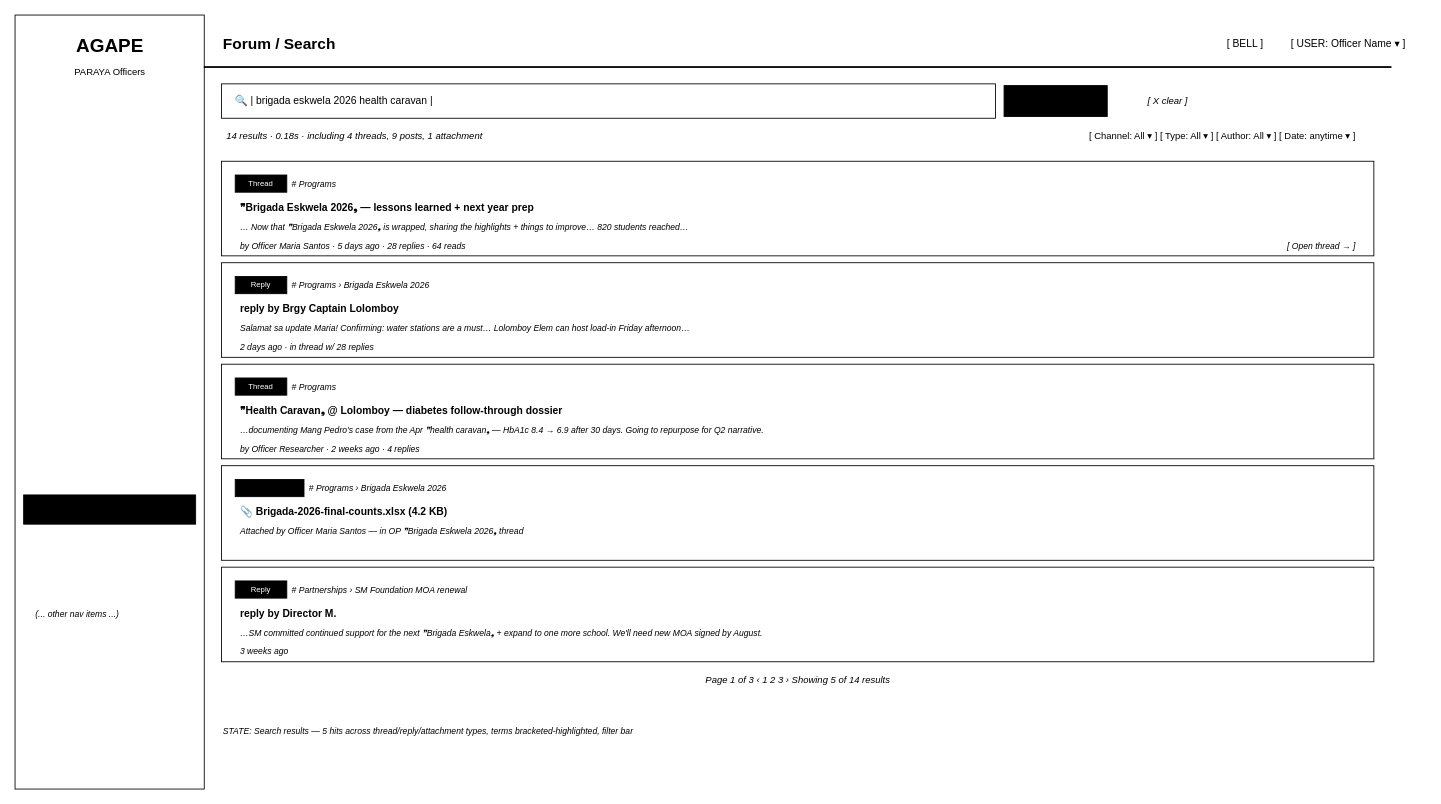
Image size: 1441x804. Some labels were removed from this diagram. The shapes that lost their labels are listed below. From the top down, each one's centre as x and y in pixels, then its label:
At [1055,101]: "[ Search ]".
At [269,488]: "Attachment".
At [109,509]: "[x] Forum".
